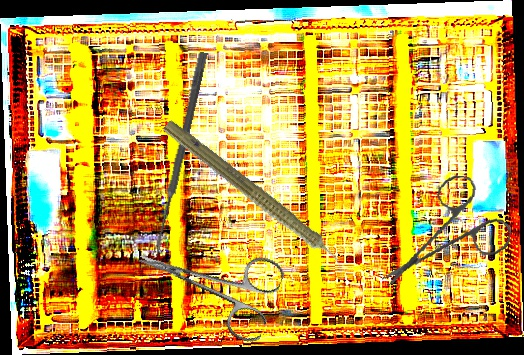Handpiece: (156, 115, 359, 283)
Iris Scissors: (125, 215, 288, 346), (381, 167, 518, 302)
Surgical Spoon: (151, 51, 208, 257)
